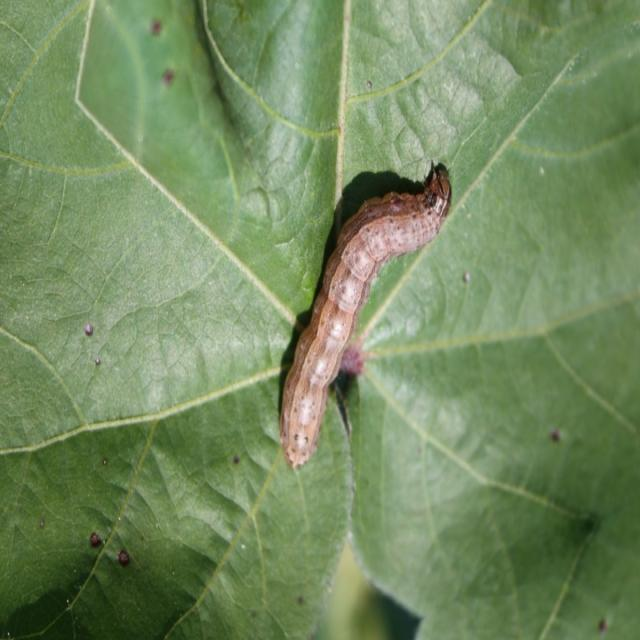Armyworm: (257, 73, 476, 502)
